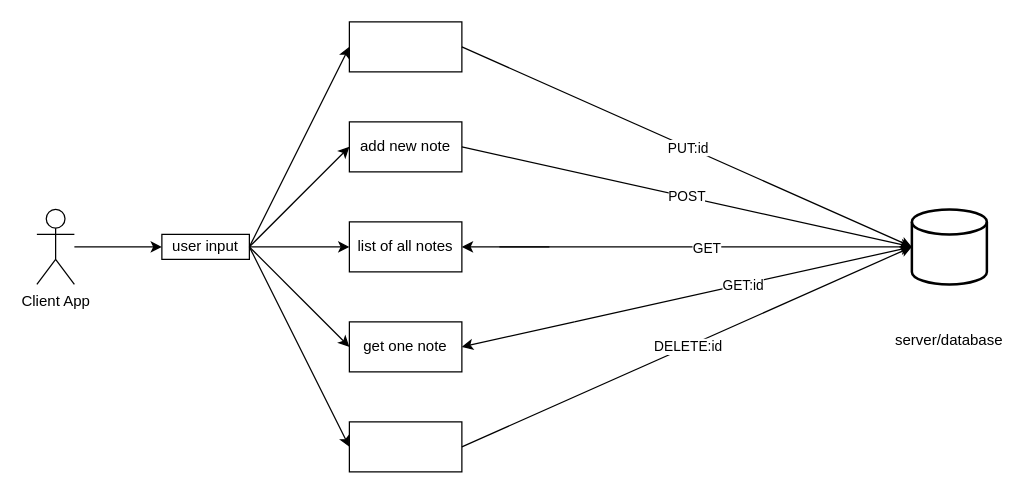
This 1025x494 diagram has some shape labels left out. The centre of each missing label's shape, as x and y in pixels:
"delete note" belongs at (x=405, y=446).
"edit existing note" belongs at (x=405, y=46).
